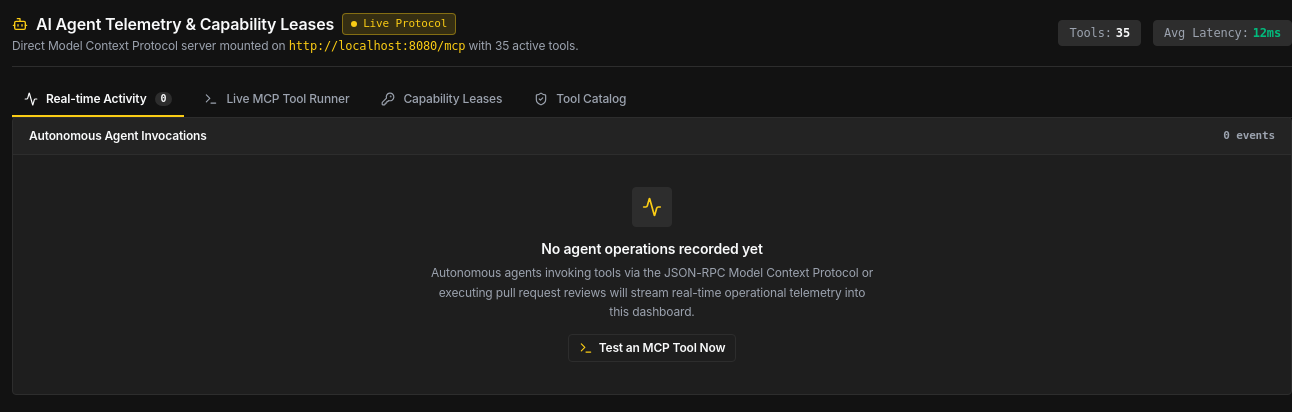
Test: AgentConsoleView Component › switches to Live MCP Tool Runner tab and selects a tool
Click the button "Live MCP Tool Runner" at (277, 100), box [192, 83, 361, 117]
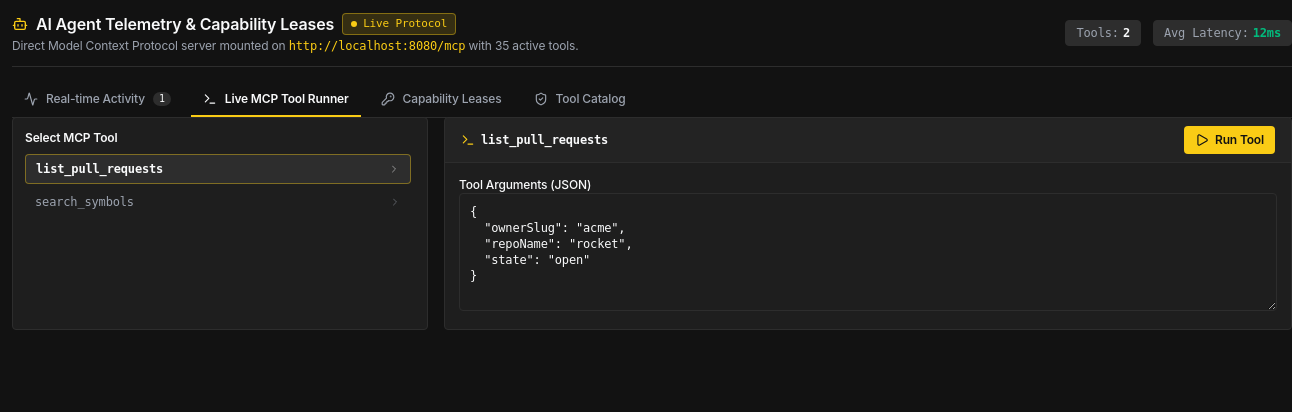
Now the heading "Select MCP Tool" is shown, box [25, 130, 117, 145]
Now the text "Run Tool" is shown, box [1215, 132, 1264, 148]
